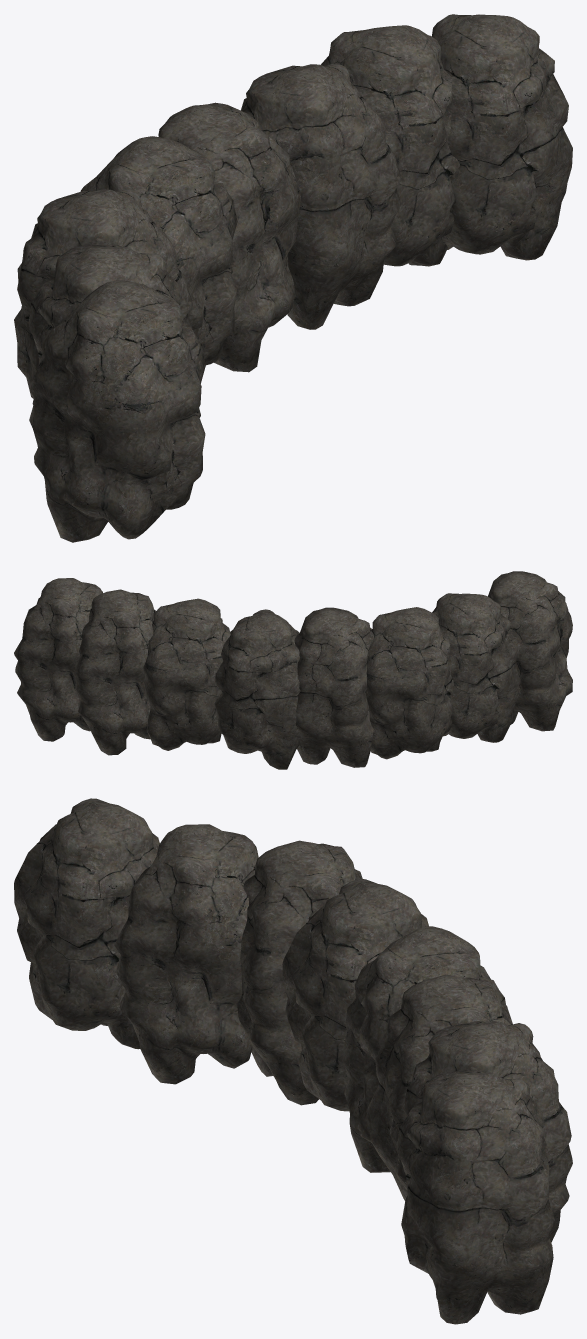
Rendered from TwinPeakRocksShape2.dae.
3 views of the same model, one above another, from view 1: azimuth 30°, elevation 25°; view 2: azimuth 150°, elevation 25°; view 3: azimuth 270°, elevation 25° (orthographic). The views are drawn at different scales.
Visible parts, largest first — view 1: TwinPeakRocks2; view 2: TwinPeakRocks2; view 3: TwinPeakRocks2.
Boxes of the visible parts, bbox=[...] form: TwinPeakRocks2: bbox=[14, 14, 572, 542]; TwinPeakRocks2: bbox=[14, 571, 572, 769]; TwinPeakRocks2: bbox=[14, 798, 572, 1324].
Size of the model in its own units: 185 by 62.58 by 132.
